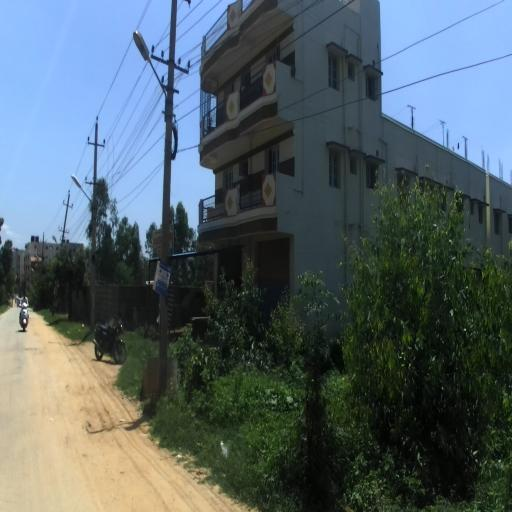street_light_0: (133, 30, 175, 122), (71, 173, 97, 220), (36, 254, 43, 267), (31, 267, 35, 274)
